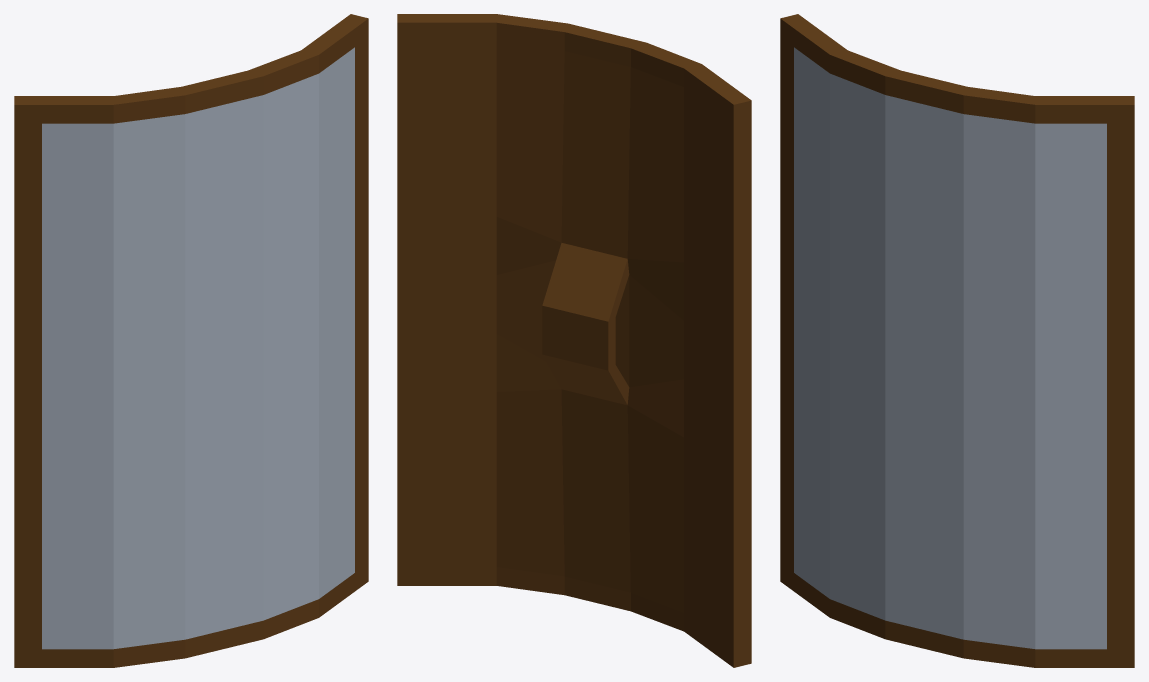
File: SteelSquareShield.glb
3 renders of one model, left to right at view 1: azimuth 30°, elevation 25°; view 2: azimuth 150°, elevation 25°; view 3: azimuth 330°, elevation 25°, orthographic.
Parts seen in each view (by area): view 1: SqShield; view 2: SqShield; view 3: SqShield.
Boxes of the visible parts, x1,y1,x2,y2 form: SqShield: (14,14,368,667); SqShield: (397,14,751,667); SqShield: (780,14,1134,667).
Bounding box in the file's own units: 0.3953 × 0.6 × 0.0811.
